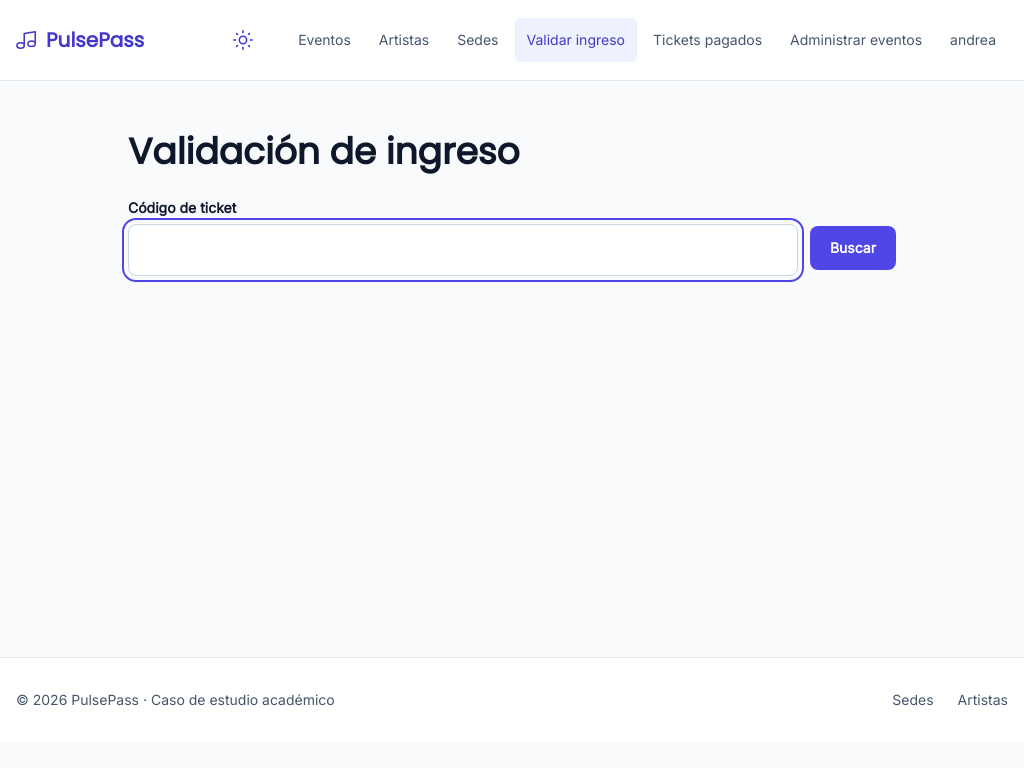
TEST-FE-STF-002 segundo uso muestra 409
The image size is (1024, 768).
Type "TKT-8F2A1C" into the field labelled "Código de ticket". click: (463, 250)
box: [128,224,798,276]
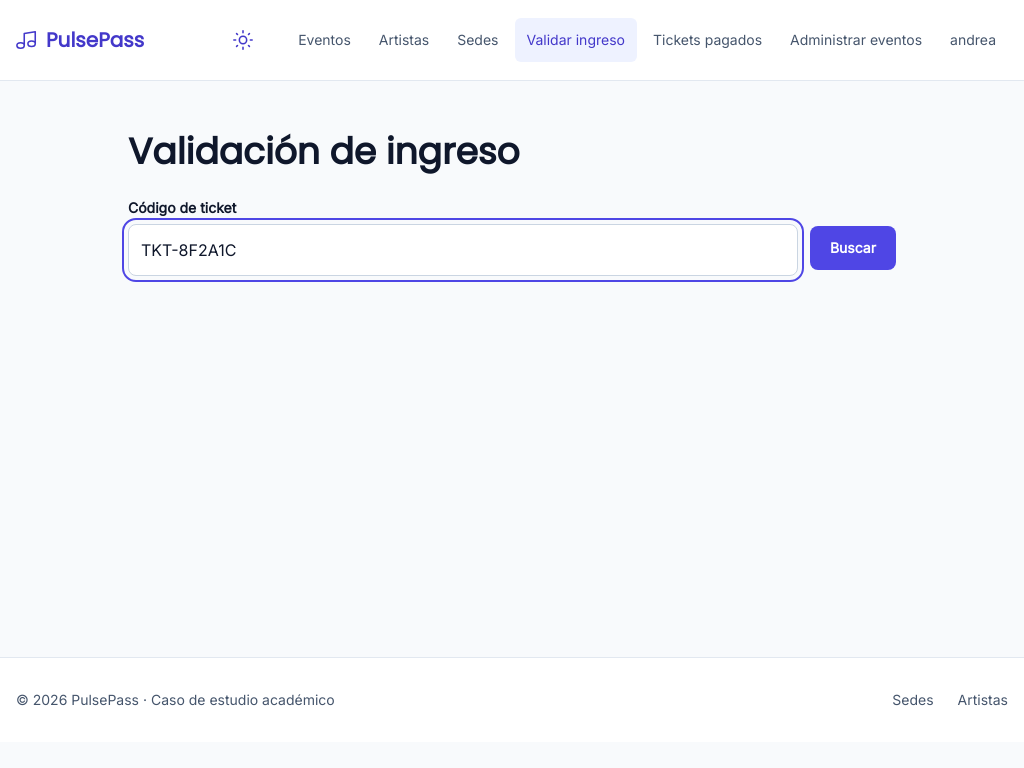
Click the button "Buscar". click: (853, 248)
box: [810,226,896,270]
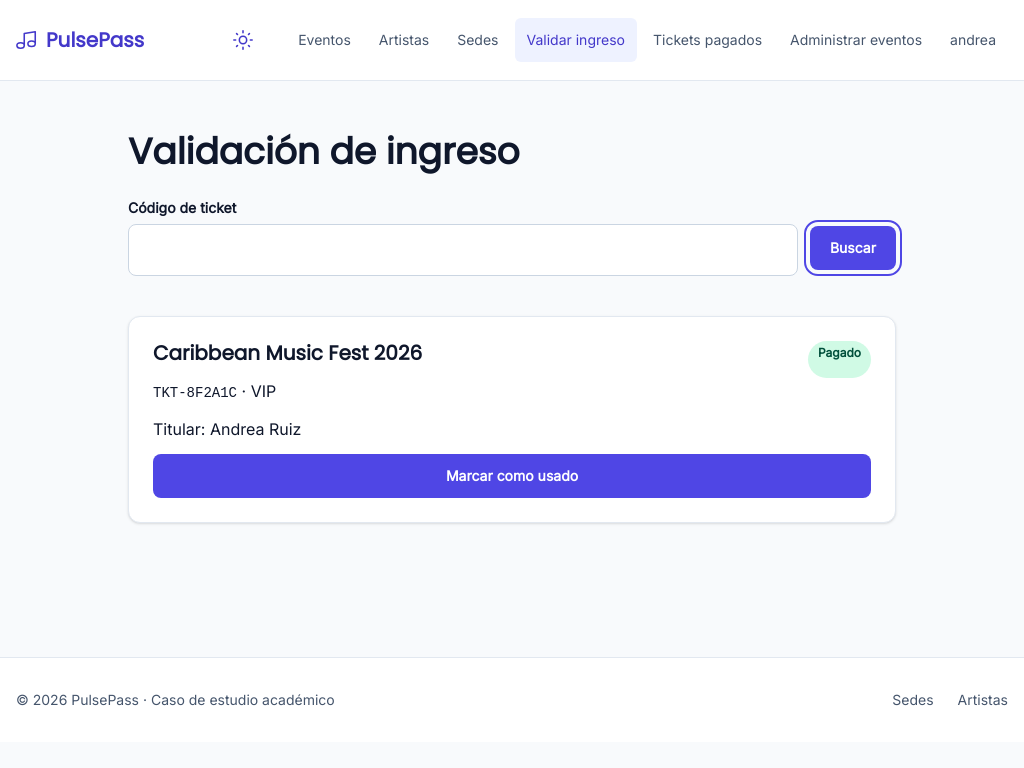
Click the button "Marcar como usado". click: (512, 476)
box: [153,454,871,498]
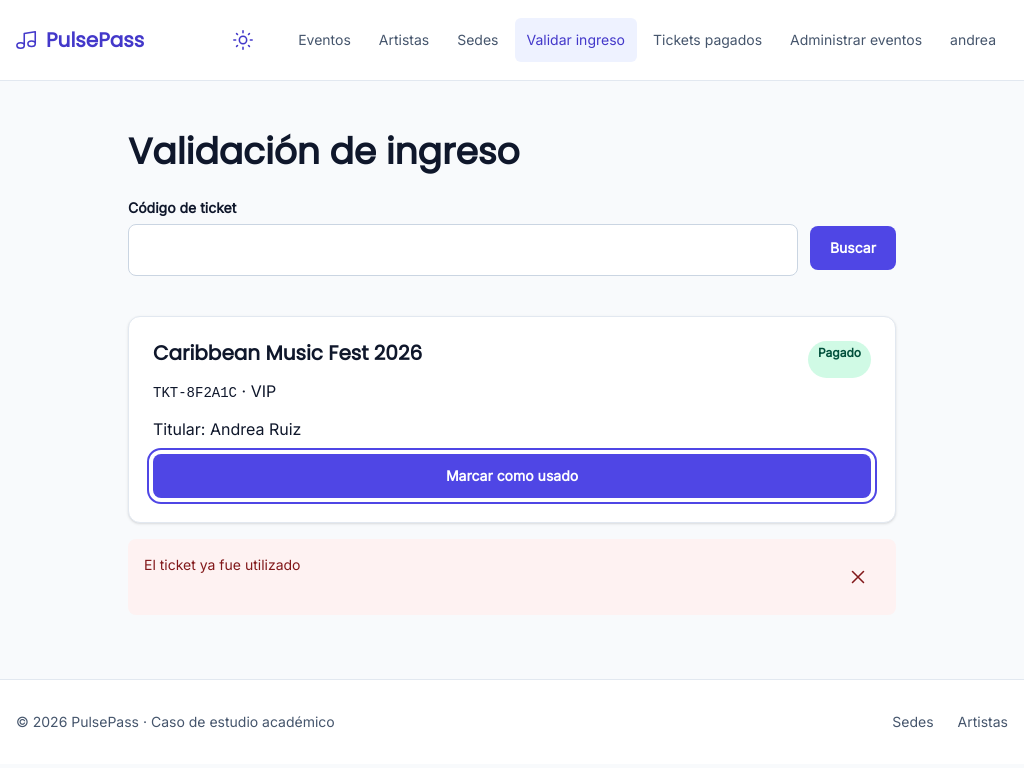
Now the text "El ticket ya fue utilizado" is shown, box [144,555,300,575]
